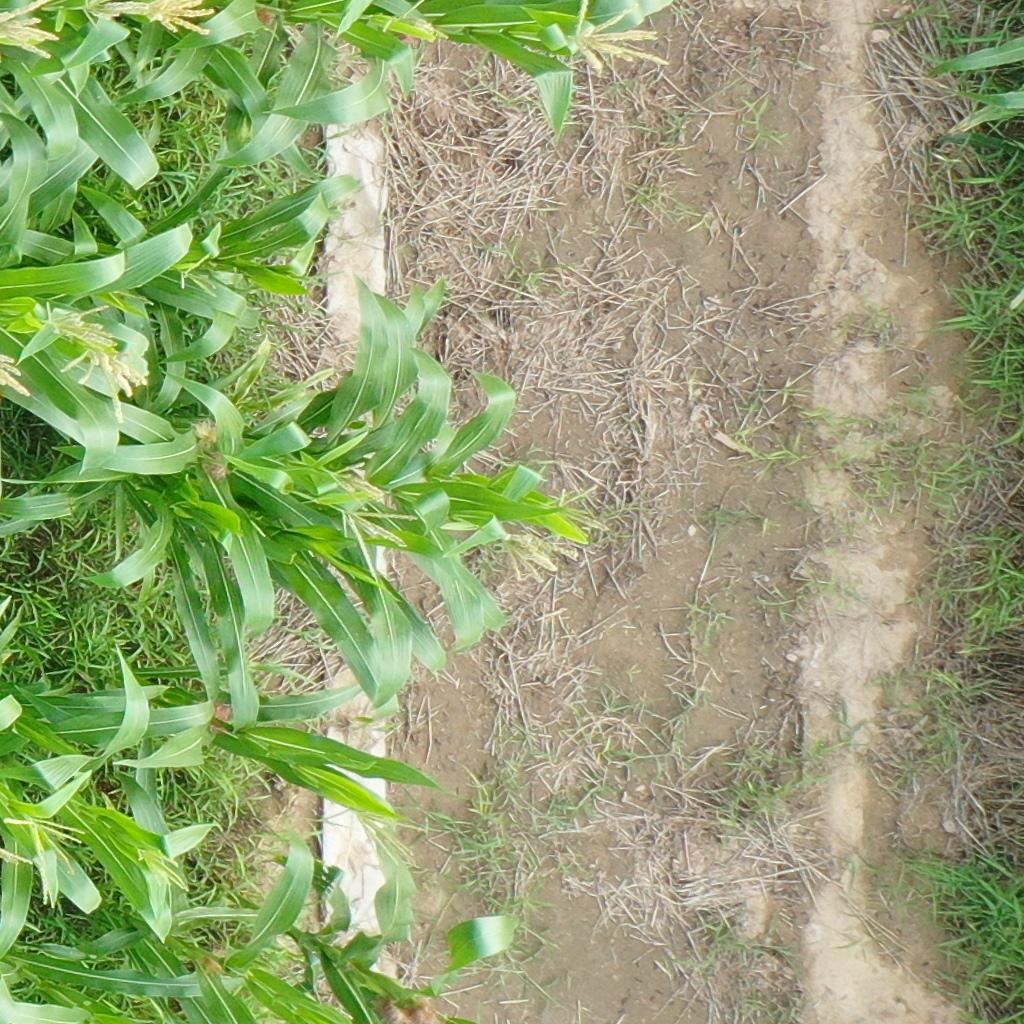Tassel: (554, 1, 674, 79), (58, 344, 151, 427), (333, 500, 419, 586), (498, 523, 580, 586), (356, 804, 428, 873), (38, 298, 118, 356), (3, 812, 83, 869), (1, 1, 63, 61), (554, 475, 615, 531), (371, 1, 451, 41), (140, 1, 217, 40), (246, 652, 318, 693), (326, 459, 385, 506), (133, 845, 190, 890), (174, 251, 220, 302), (77, 1, 150, 31), (1, 346, 31, 396), (1, 845, 35, 867)
